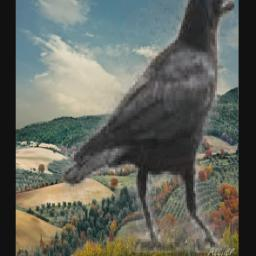Crow: (62, 0, 234, 254)
